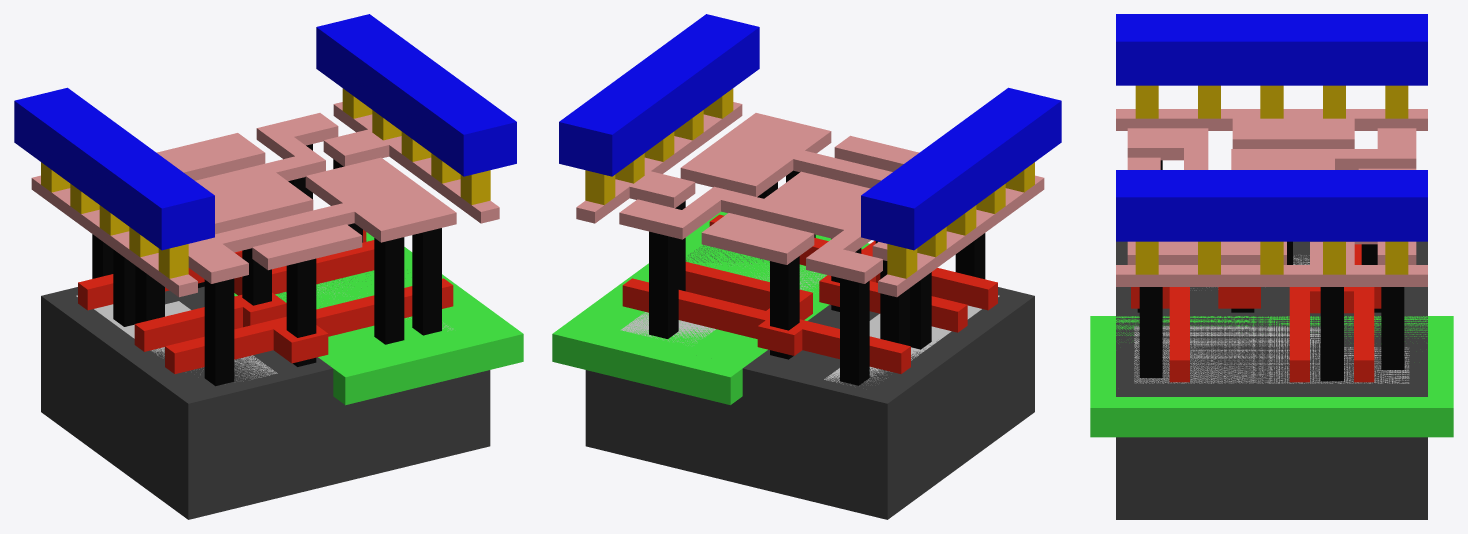
The model's file is sky130_fd_sc_hd__einvn_1.obj.
3 renders of one model, left to right at view 1: azimuth 30°, elevation 25°; view 2: azimuth 150°, elevation 25°; view 3: azimuth 270°, elevation 25°, orthographic. The views are drawn at different scales.
Parts seen in each view (by area): view 1: subs, li, metal1, licon, nwell, poly, mcon, diff; view 2: subs, li, metal1, nwell, poly, licon, mcon, tap, diff; view 3: subs, metal1, li, nwell, poly, mcon, licon, tap.
Part boxes in pixels (left/top/right/bottom): subs: left=41, top=278, right=490, bottom=519; li: left=31, top=102, right=499, bottom=297; metal1: left=14, top=14, right=516, bottom=250; licon: left=92, top=144, right=441, bottom=386; nwell: left=234, top=232, right=523, bottom=405; poly: left=78, top=229, right=453, bottom=373; mcon: left=41, top=88, right=490, bottom=278; diff: left=76, top=295, right=277, bottom=381; subs: left=585, top=245, right=1034, bottom=519; li: left=576, top=102, right=1044, bottom=297; metal1: left=559, top=14, right=1061, bottom=250; nwell: left=552, top=211, right=869, bottom=405; poly: left=622, top=214, right=997, bottom=373; licon: left=649, top=170, right=985, bottom=385; mcon: left=585, top=88, right=1034, bottom=278; tap: left=620, top=256, right=824, bottom=345; diff: left=824, top=295, right=999, bottom=385; subs: left=1116, top=241, right=1427, bottom=519; metal1: left=1116, top=14, right=1427, bottom=241; li: left=1116, top=109, right=1427, bottom=286; nwell: left=1090, top=316, right=1453, bottom=437; poly: left=1131, top=244, right=1381, bottom=382; mcon: left=1135, top=85, right=1408, bottom=274; licon: left=1137, top=160, right=1404, bottom=381; tap: left=1134, top=326, right=1409, bottom=383.
Size of the model in its own units: 3.2 by 2.74 by 2.68.
